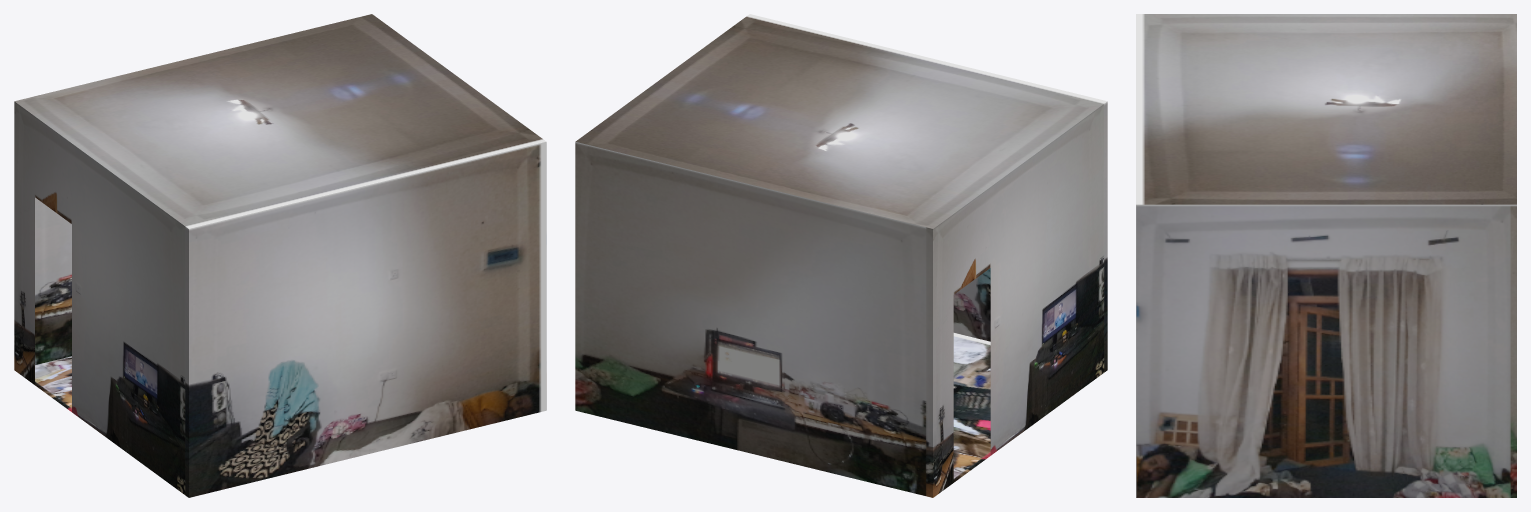
File: floor2.glb
3 views of the same model, side by side, from view 1: azimuth 30°, elevation 25°; view 2: azimuth 150°, elevation 25°; view 3: azimuth 270°, elevation 25° (orthographic). The views are drawn at different scales.
Visible parts, largest first — view 1: Pano Plane 01; view 2: Pano Plane 01; view 3: Pano Plane 01.
Boxes of the visible parts, x1,y1,x2,y2 form: Pano Plane 01: (14,14,546,497); Pano Plane 01: (575,14,1107,497); Pano Plane 01: (1136,14,1516,497).
Bounding box in the file's own units: 2.78 × 2 × 2.35.
1 material, 1 textured.
